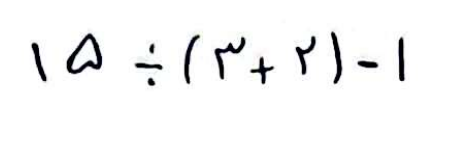character: (65, 33, 104, 75), (215, 37, 246, 82), (135, 43, 163, 87), (183, 35, 201, 83), (294, 35, 315, 76), (329, 31, 343, 85), (250, 56, 275, 85), (31, 43, 48, 83), (397, 37, 411, 83), (357, 60, 380, 76)
